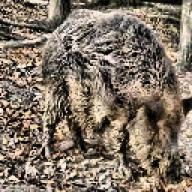boar: (37, 6, 192, 181)
